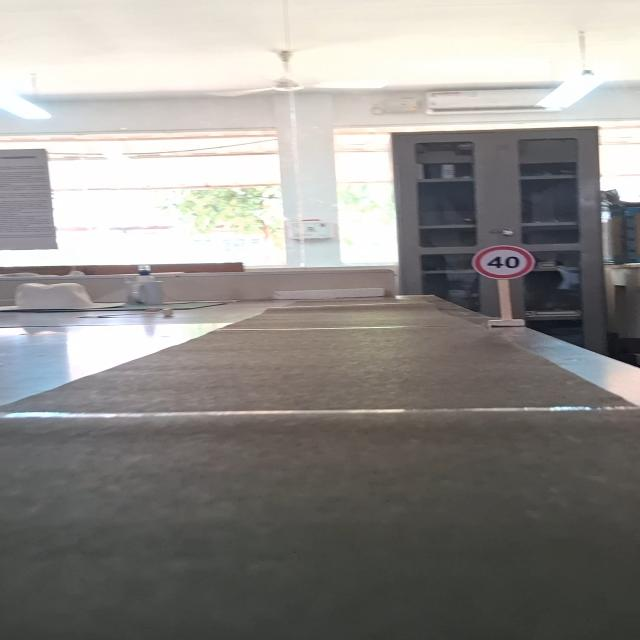Speed40: (470, 244, 537, 280)
